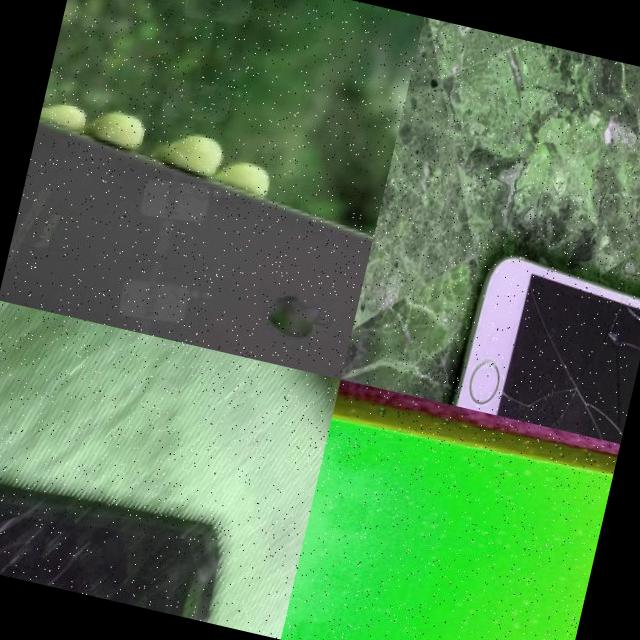screen crack: (0, 433, 239, 623), (451, 238, 640, 443)
